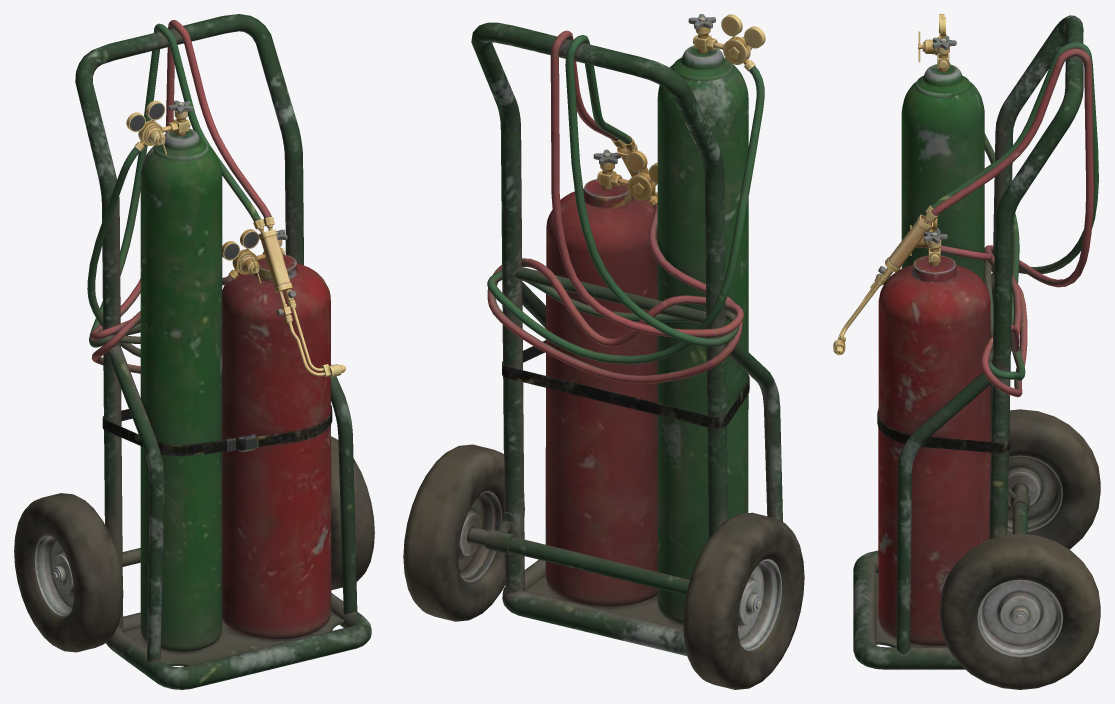
File: portable_welding_cart.glb
3 renders of one model, left to right at view 1: azimuth 30°, elevation 25°; view 2: azimuth 150°, elevation 25°; view 3: azimuth 270°, elevation 25°, orthographic. The views are drawn at different scales.
Visible parts, largest first — view 1: portable_welding_cart; view 2: portable_welding_cart; view 3: portable_welding_cart.
Part boxes in pixels (box(x1,y1,x2,y2)): portable_welding_cart: box(14, 14, 374, 689); portable_welding_cart: box(403, 14, 804, 689); portable_welding_cart: box(833, 14, 1100, 689).
Size of the model in its own units: 0.8384 by 1.56 by 0.655.
2 materials, 2 textured.
